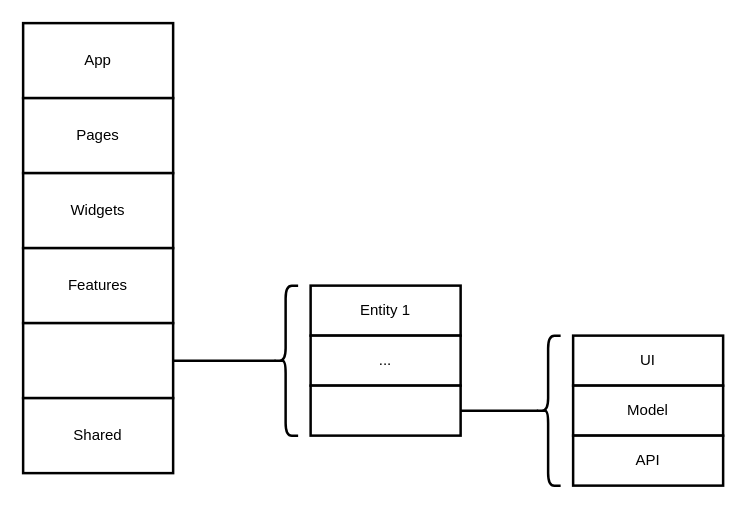
The diagram is 745 pixels wide and 508 high, and some of its shapes have lost their labels. The shapes that lost their labels are listed below. From the top down, each one's centre as x and y in pixels, then its label:
the point at 97,360: Entities
the point at 385,410: Entity n
